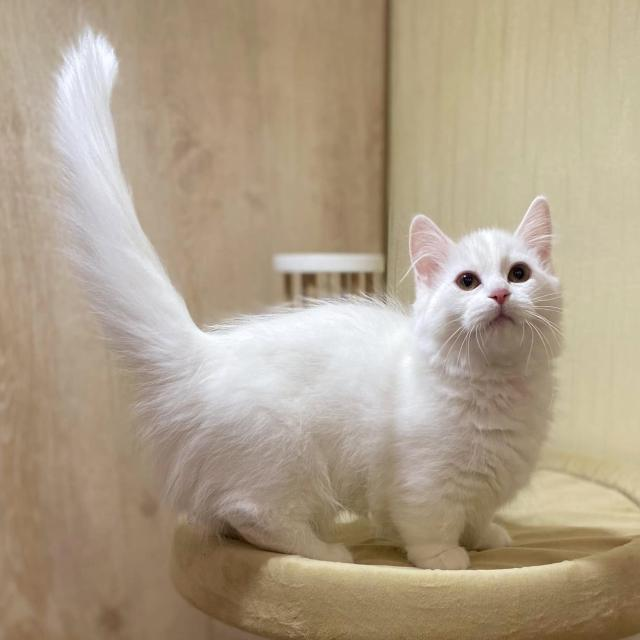Munchkin: (46, 22, 570, 582)
